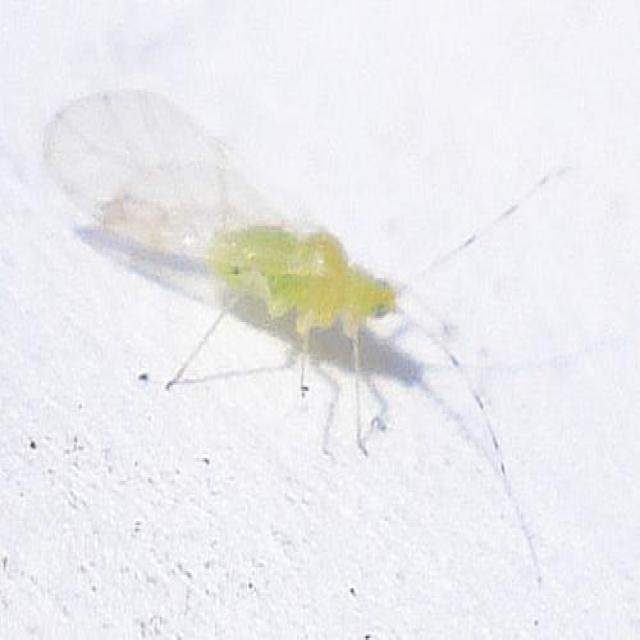Aphids: (43, 66, 571, 482)
